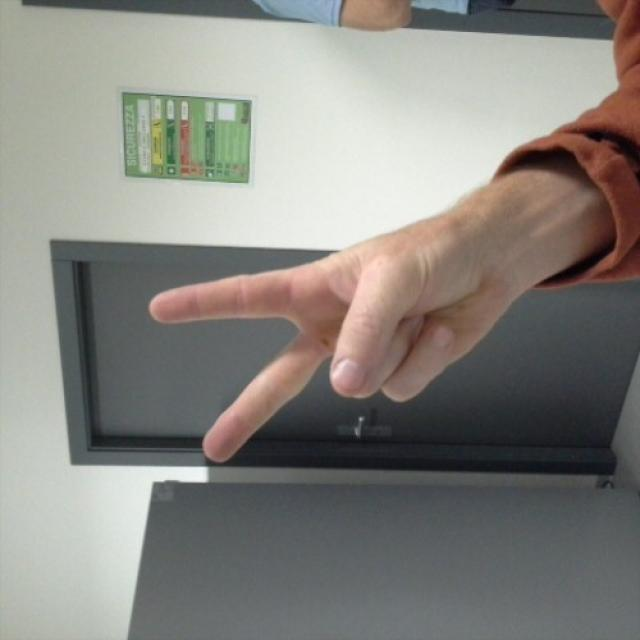scissors: (149, 202, 460, 464)
